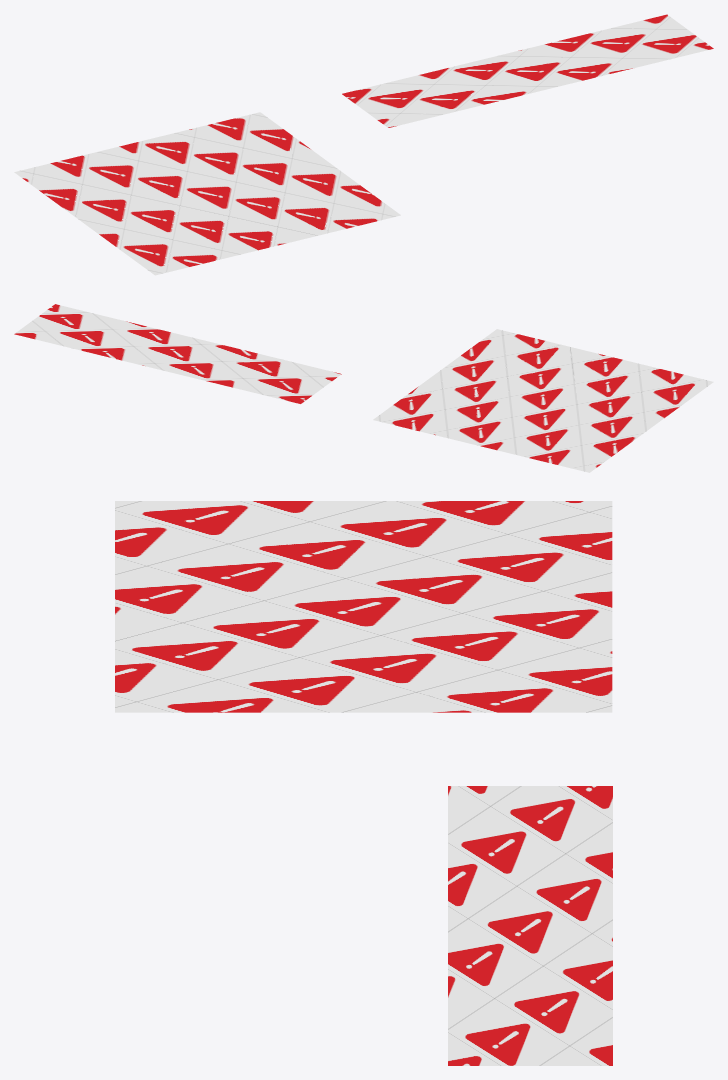
The model's file is warning.gltf.
3 views of the same model, one above another, from view 1: azimuth 30°, elevation 25°; view 2: azimuth 150°, elevation 25°; view 3: azimuth 270°, elevation 25° (orthographic). The views are drawn at different scales.
Parts seen in each view (by area): view 1: Plane, Plane.001; view 2: Plane, Plane.001; view 3: Plane, Plane.001.
Part boxes in pixels (x1,y1,x2,y2): Plane: (14, 112, 400, 275); Plane.001: (342, 14, 713, 127); Plane: (373, 329, 713, 472); Plane.001: (14, 304, 341, 403); Plane: (115, 501, 612, 712); Plane.001: (448, 786, 612, 1065).
Bounding box in the file's own units: 79.94 × 0.2125 × 29.95.
2 materials, 2 textured.
